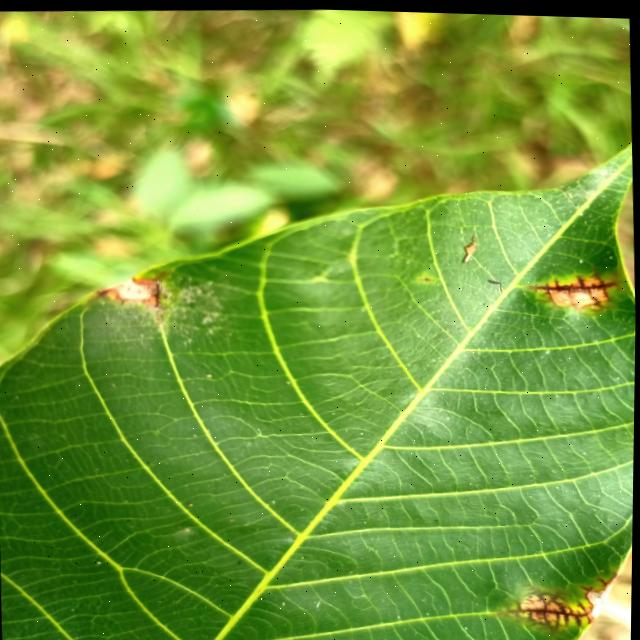Corynespora: (523, 263, 622, 308), (503, 582, 595, 629)
Leaf-Blight: (105, 274, 157, 306), (590, 574, 618, 616)
